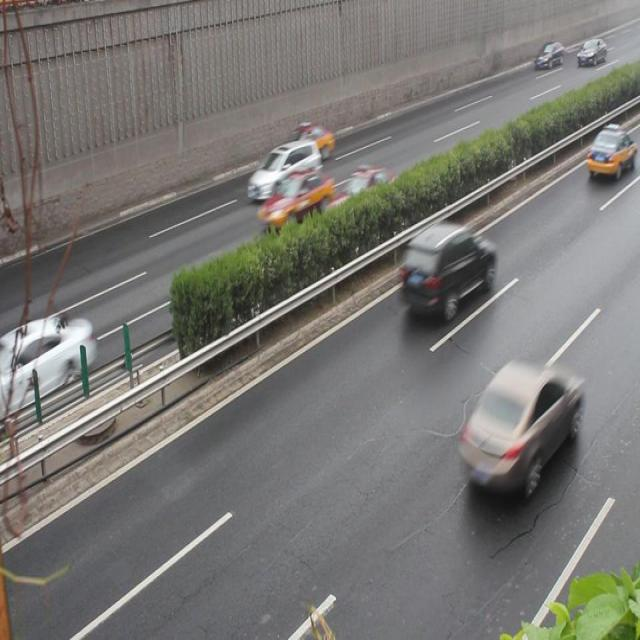car: (458, 354, 581, 502), (1, 316, 91, 413), (399, 222, 493, 314), (324, 166, 400, 230), (244, 137, 320, 201), (256, 171, 334, 232), (584, 127, 632, 182), (278, 124, 334, 166)
